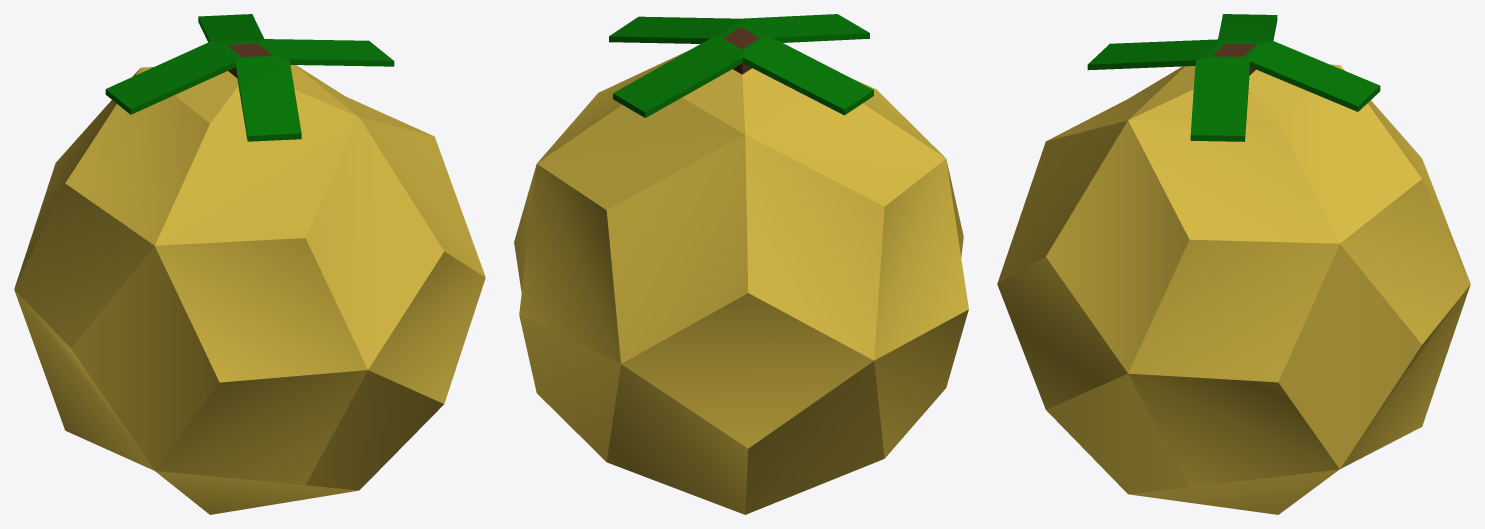
File: fruitbasic.fbx
The picture shows the model from 3 angles, left to right: view 1: azimuth 30°, elevation 25°; view 2: azimuth 150°, elevation 25°; view 3: azimuth 270°, elevation 25°; orthographic projection.
Parts seen in each view (by area): view 1: pPlatonic1; view 2: pPlatonic1; view 3: pPlatonic1.
Boxes of the visible parts, <box> form: pPlatonic1: <box>14,14,485,514</box>; pPlatonic1: <box>514,14,968,514</box>; pPlatonic1: <box>997,14,1470,514</box>.
Bounding box in the file's own units: 1.96 × 2.02 × 2.
